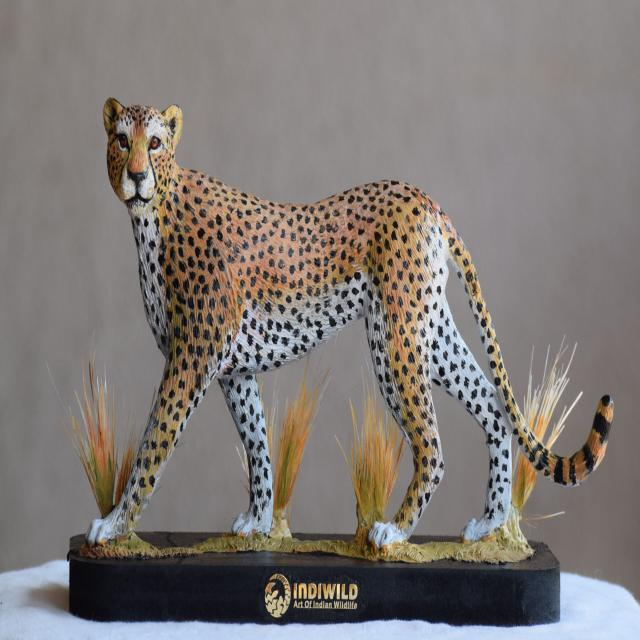Cheetah: (84, 73, 619, 564)
